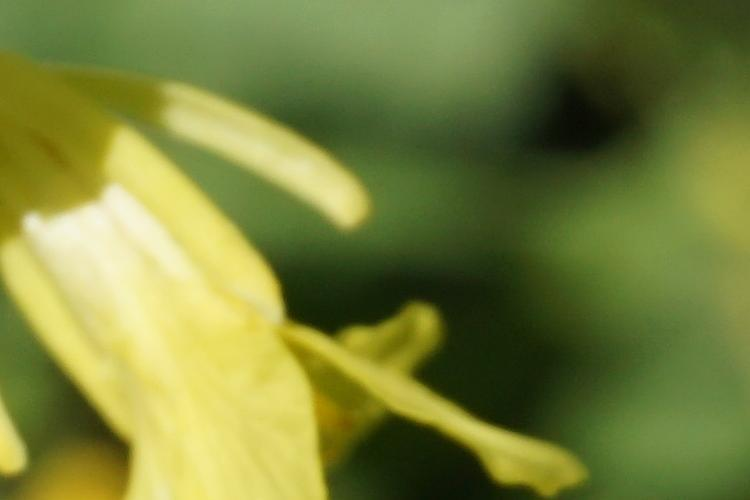yellow: (10, 53, 507, 497)
